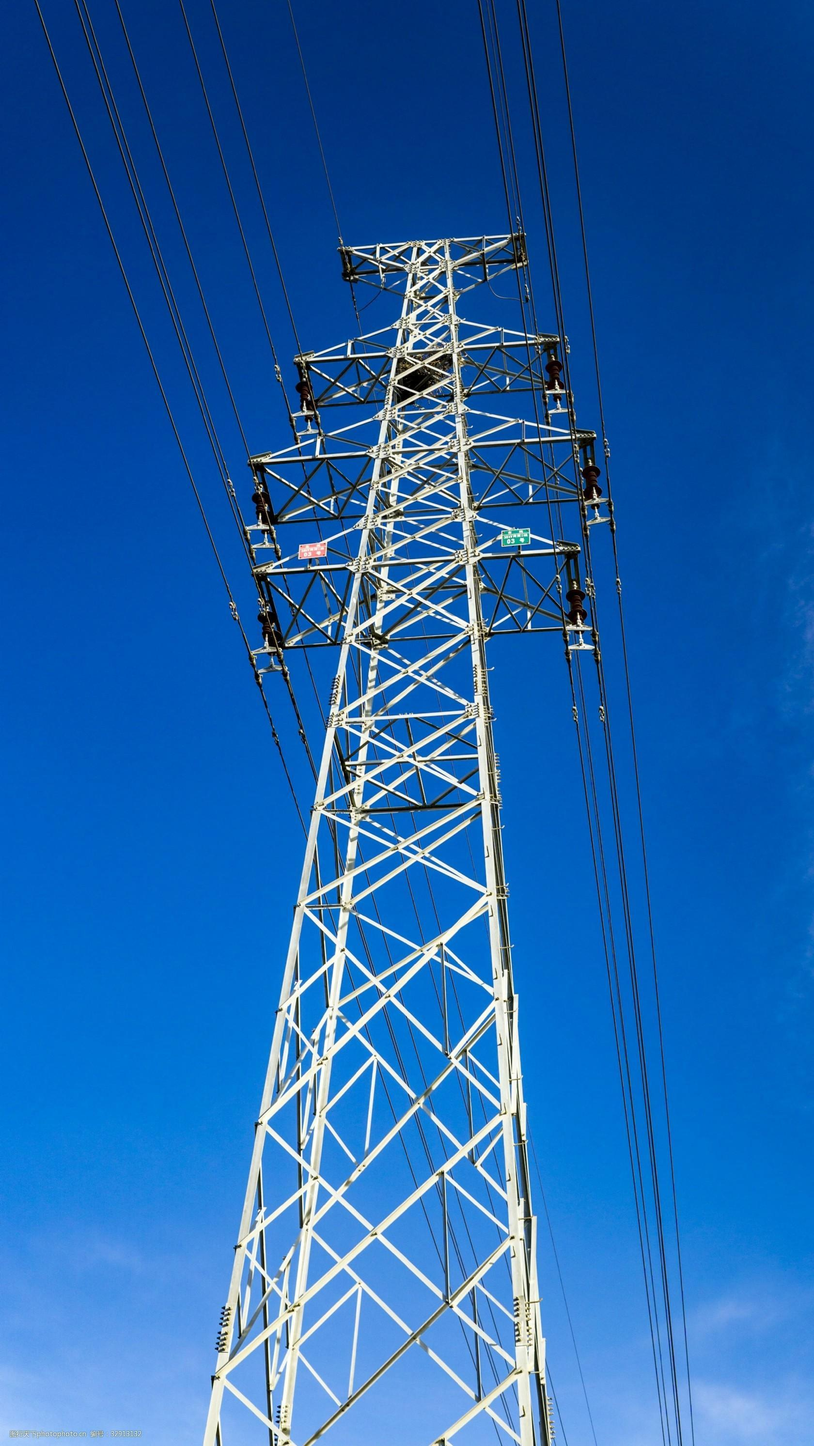power_tower: (220, 201, 625, 1446)
